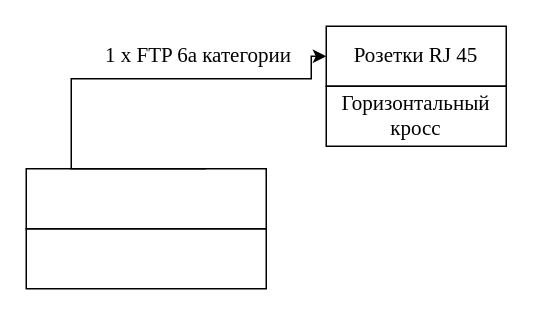
Image size: 533x315. Some labels were removed from this diagram. Each missing label, with the box of its shape:
Главный кросс: (25, 227, 266, 289)
Коммутатор, 24 порта: (25, 167, 266, 229)
